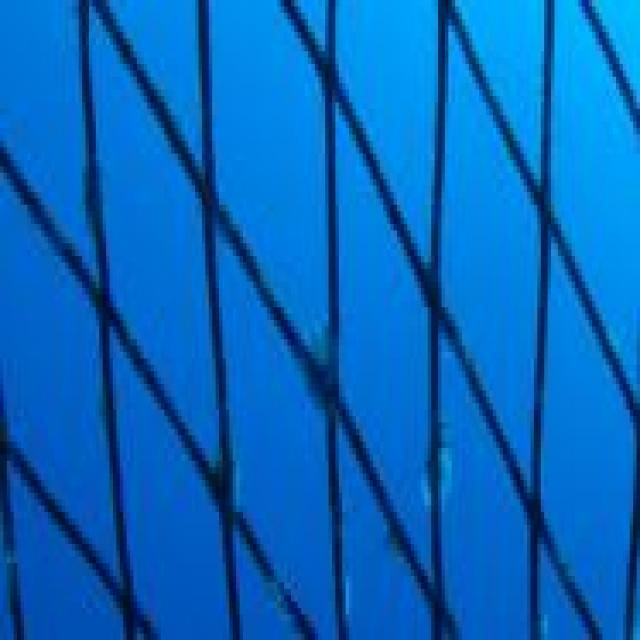fence line: (4, 6, 639, 634)
